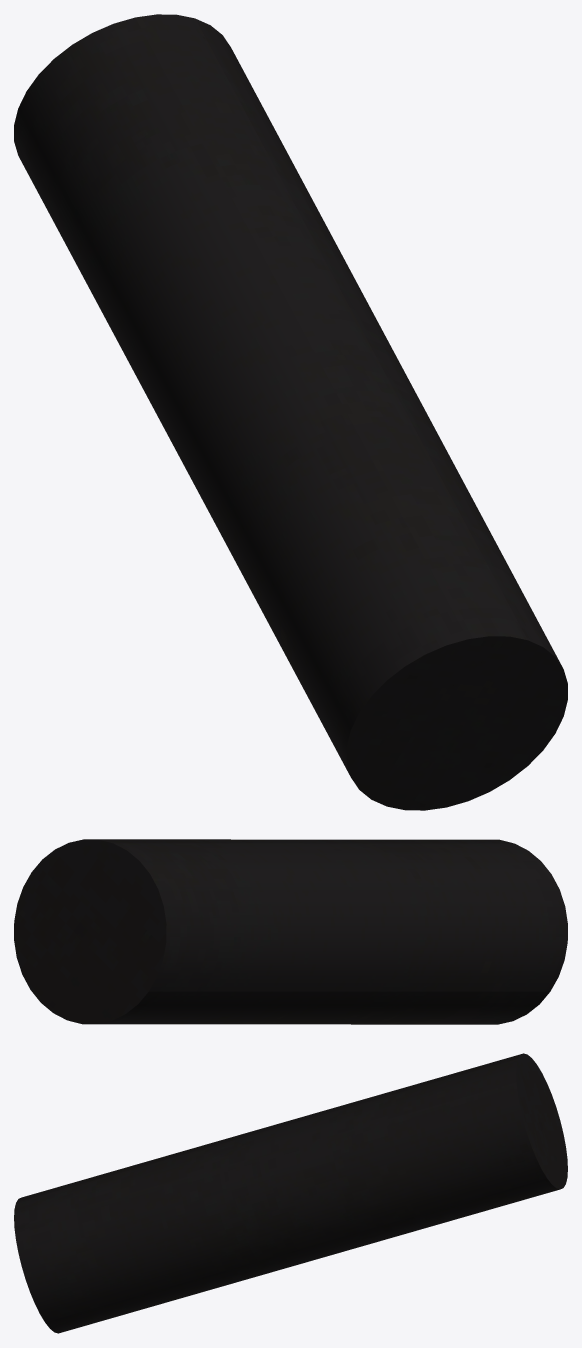
The model's file is right_handlebar__right_upper_1.glb.
3 views of the same model, one above another, from view 1: azimuth 30°, elevation 25°; view 2: azimuth 150°, elevation 25°; view 3: azimuth 270°, elevation 25° (orthographic). The views are drawn at different scales.
Parts seen in each view (by area): view 1: geometry_0; view 2: geometry_0; view 3: geometry_0.
Boxes of the visible parts, box(x1,y1,x2,y2) form: geometry_0: box(14, 14, 567, 810); geometry_0: box(14, 839, 567, 1024); geometry_0: box(14, 1053, 567, 1333).
Bounding box in the file's own units: 0.0516 × 0.0817 × 0.1412.
1 material, 1 textured.
